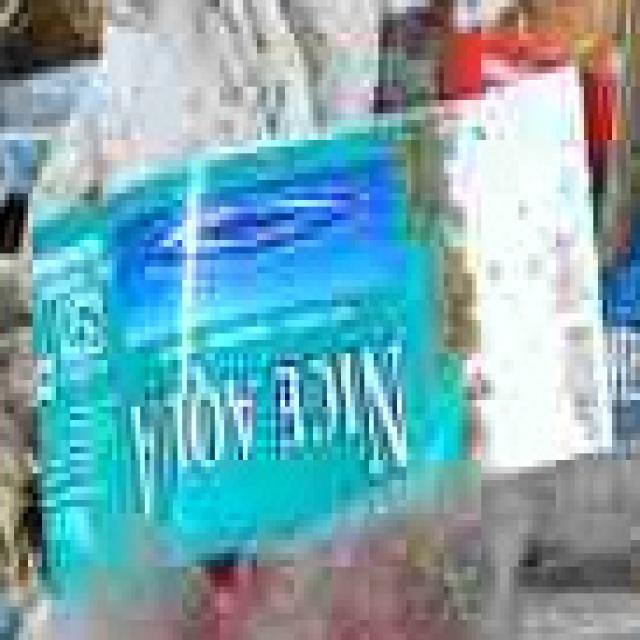giay_goi: (40, 120, 472, 587)
